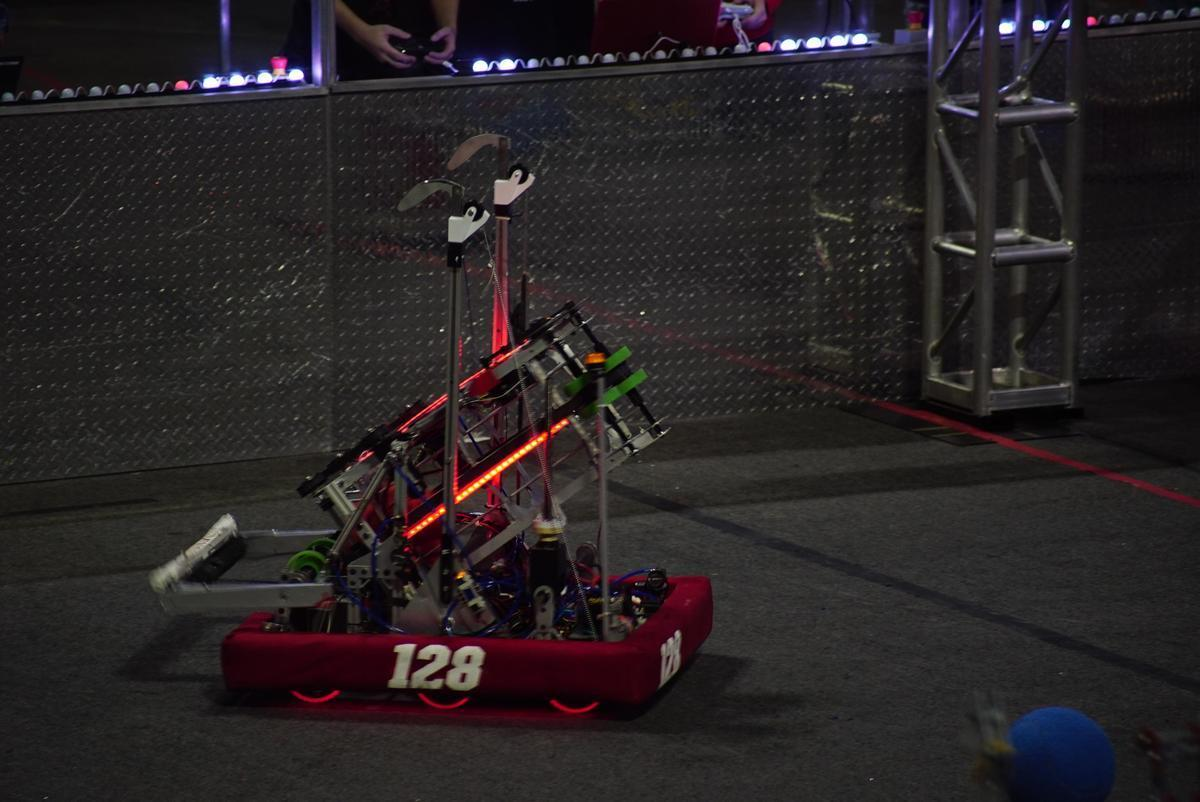robot: (139, 119, 722, 727)
